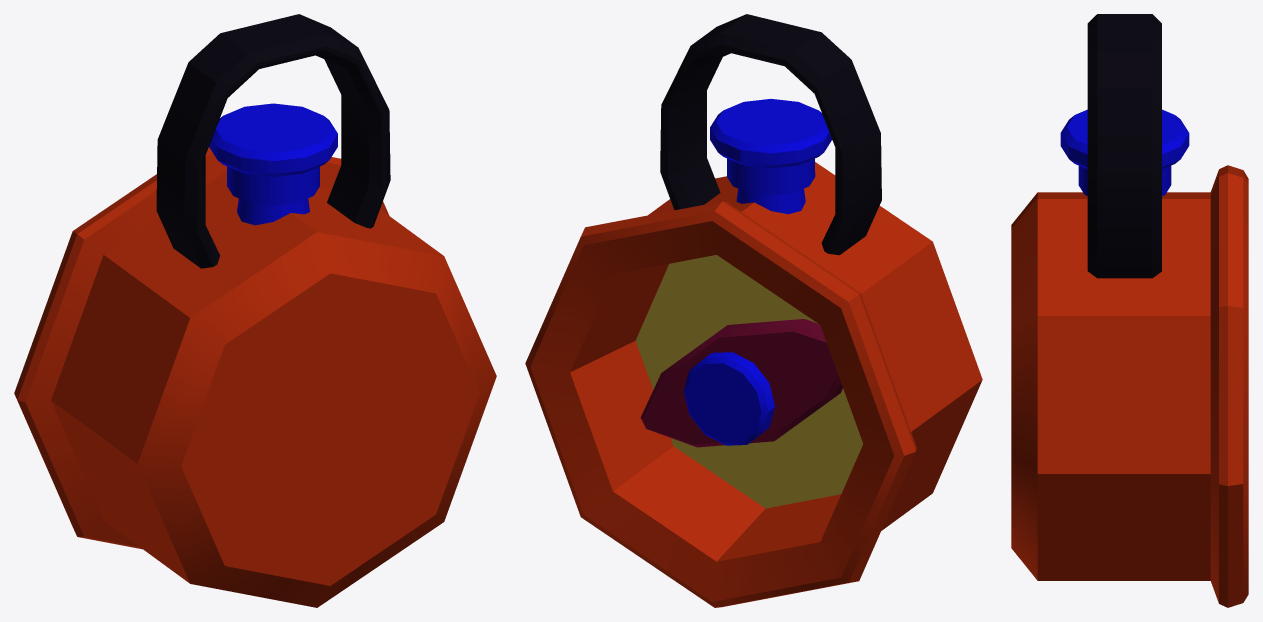
Rendered from Compass.FBX.
3 renders of one model, left to right at view 1: azimuth 30°, elevation 25°; view 2: azimuth 150°, elevation 25°; view 3: azimuth 270°, elevation 25°, orthographic. The views are drawn at different scales.
Visible parts, largest first — view 1: Compass; view 2: Compass; view 3: Compass.
Part boxes in pixels (left/top/right/bottom): Compass: left=14, top=14, right=496, bottom=607; Compass: left=525, top=14, right=982, bottom=607; Compass: left=1011, top=14, right=1248, bottom=607.
Bounding box in the file's own units: 800 × 402 × 1061.
